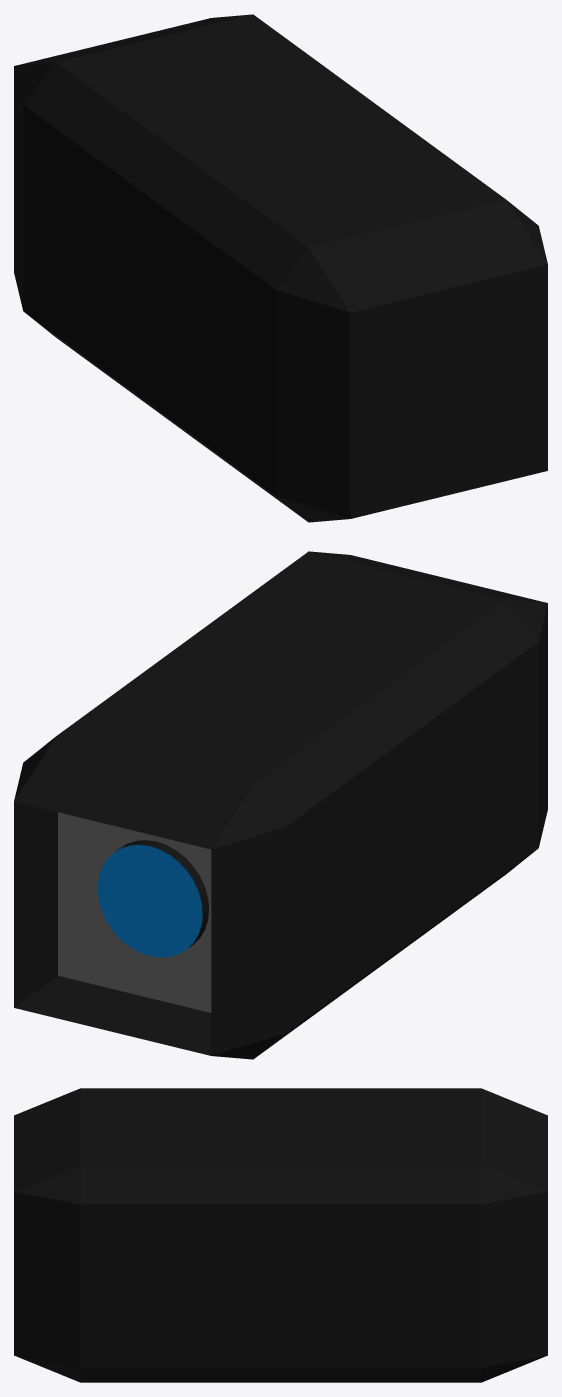
Rendered from cameraon.obj.
3 views of the same model, one above another, from view 1: azimuth 30°, elevation 25°; view 2: azimuth 150°, elevation 25°; view 3: azimuth 270°, elevation 25° (orthographic). The views are drawn at different scales.
Parts seen in each view (by area): view 1: Cube; view 2: Cube; view 3: Cube.
Boxes of the visible parts, x1=… form: Cube: x1=14, y1=14, x2=547, y2=522; Cube: x1=14, y1=551, x2=547, y2=1059; Cube: x1=14, y1=1088, x2=547, y2=1382.
Bounding box in the file's own units: 2 × 2 × 4.44.
